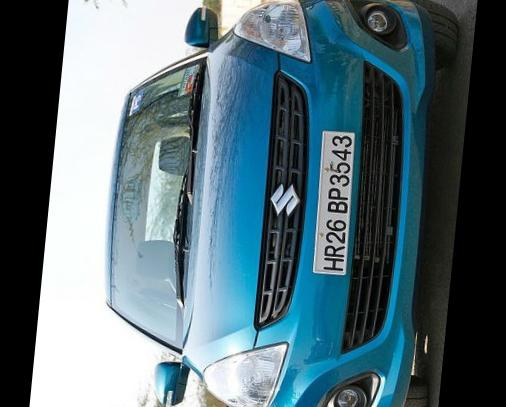plate: (307, 118, 379, 287)
